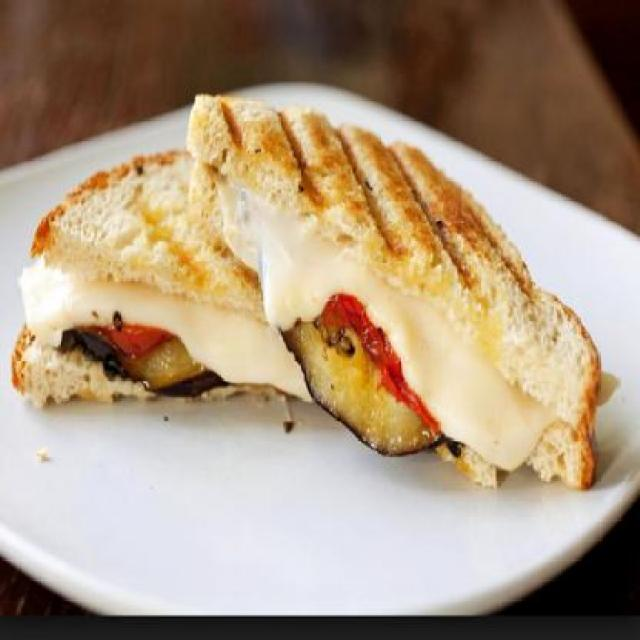eggplant: (261, 262, 479, 463), (55, 318, 239, 400)
french toast: (20, 92, 598, 279), (11, 326, 91, 402)
hummus: (235, 170, 550, 467), (13, 235, 309, 436)
